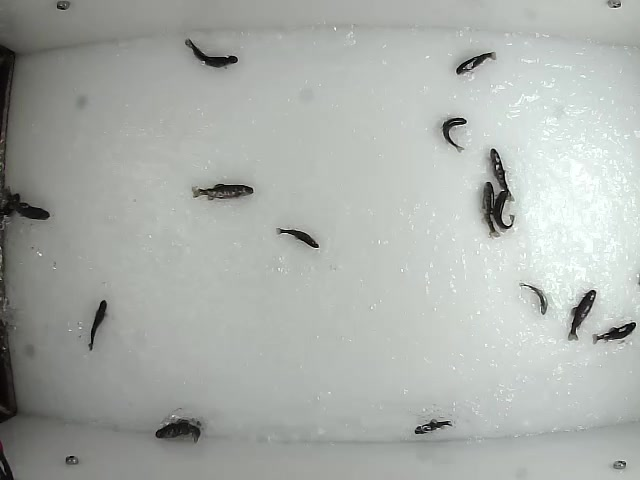fish: (186, 35, 239, 69), (566, 287, 597, 342), (487, 147, 515, 203), (153, 415, 202, 445), (187, 181, 256, 202), (84, 300, 110, 354), (481, 179, 504, 239), (453, 48, 499, 75), (273, 225, 321, 250), (490, 187, 517, 231), (593, 321, 640, 344), (441, 117, 468, 155), (519, 282, 548, 314), (413, 417, 455, 435)
